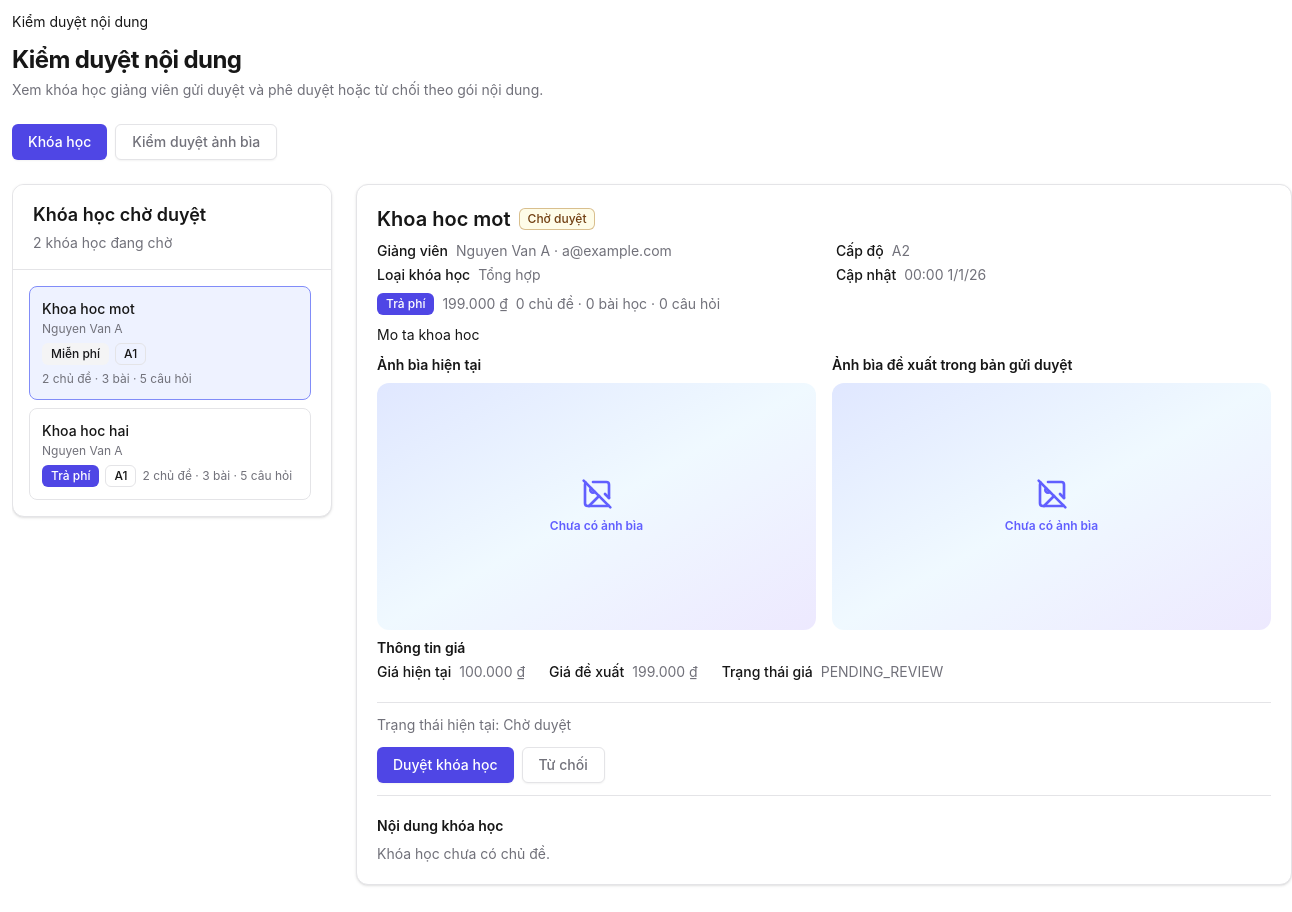
Scenario: AdminContentReviewPage shadcn sync › renders pending courses with sticky header and badges, and loads detail on click
Expected: the button "Khoa hoc mot" is shown, x1=29 y1=286 x2=311 y2=400
Expected: the element with class "sticky" that starts with "Khóa học chờ duyệt" is shown, x1=13 y1=185 x2=331 y2=270
What coordinates should you click on to do the following:
click the button "Khoa hoc hai"
I would click on:
 (85, 430)
Its box is x1=29 y1=408 x2=311 y2=500.
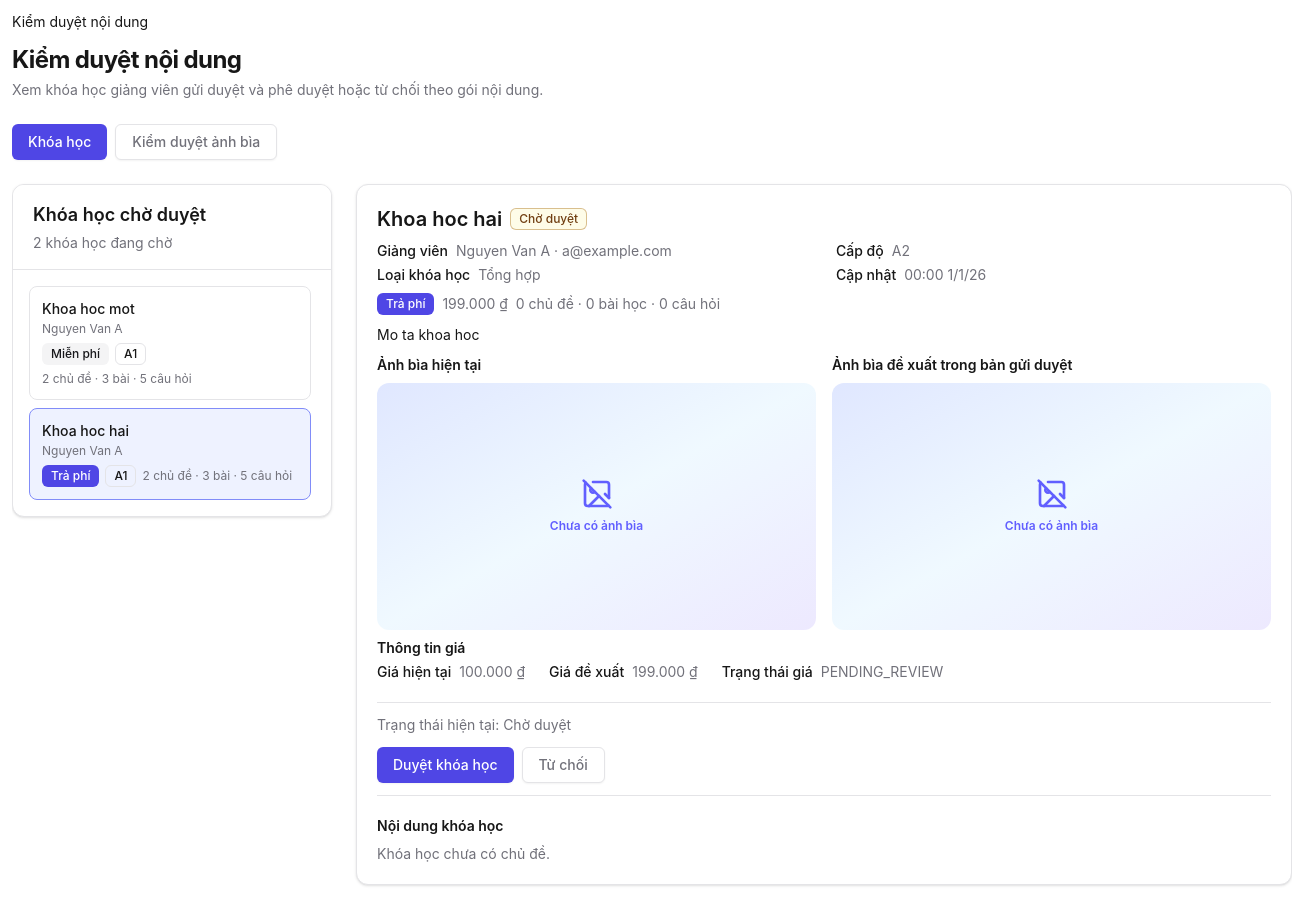
Now the heading "Khoa hoc hai" is shown, box x1=377 y1=205 x2=502 y2=233
